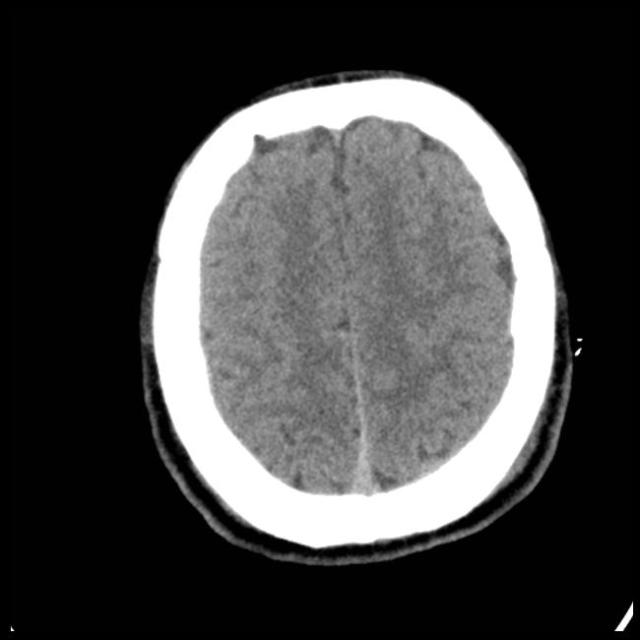lesion: (139, 68, 577, 565)
